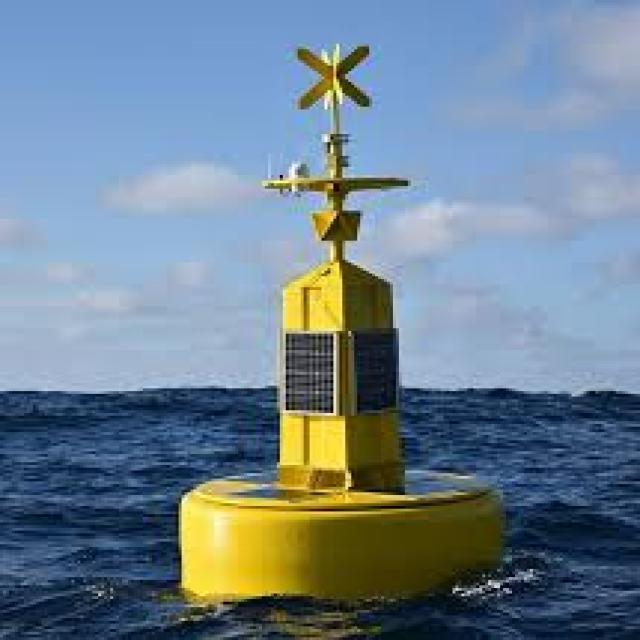buoy: (148, 15, 542, 634)
